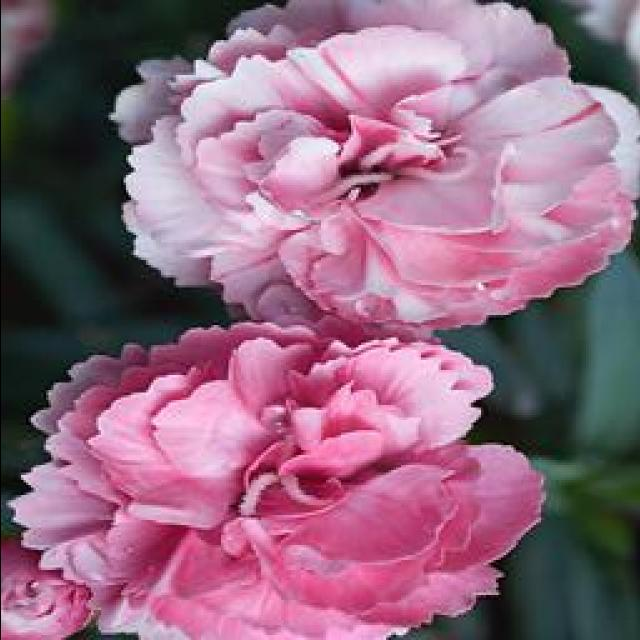carnation: (15, 315, 515, 640)
